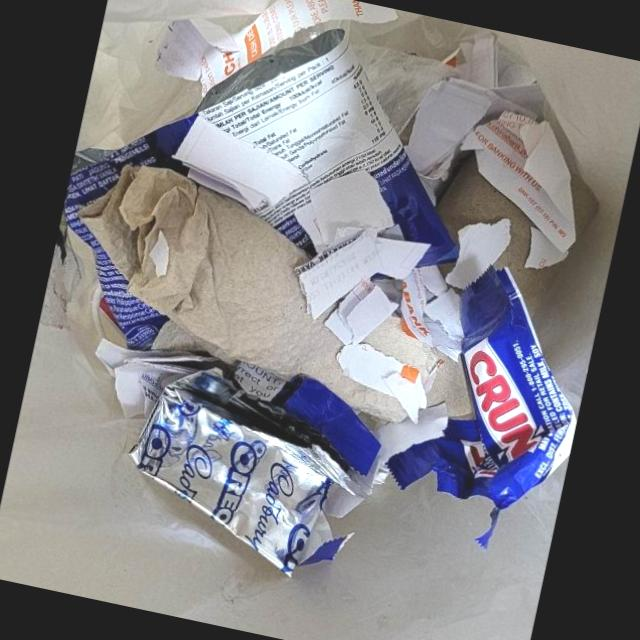bao_bi_thuc_pham: (63, 23, 475, 473), (129, 363, 382, 575), (387, 264, 574, 549)
giay: (79, 164, 408, 422), (155, 0, 398, 93), (404, 36, 537, 192), (461, 109, 576, 268), (294, 224, 432, 319), (363, 312, 472, 418), (95, 339, 232, 414), (292, 169, 394, 255), (336, 339, 427, 421), (401, 265, 464, 361), (323, 277, 399, 346), (445, 218, 512, 289)
